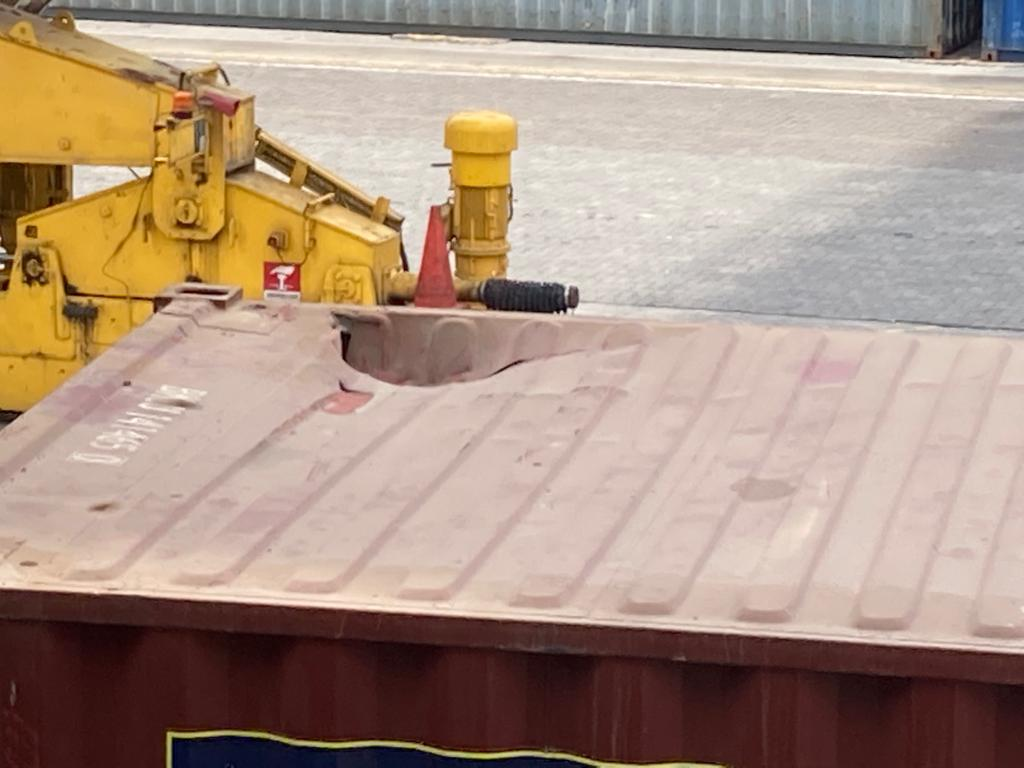severe: (312, 298, 627, 401)
